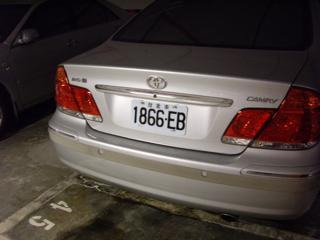plate: (129, 96, 188, 136)
